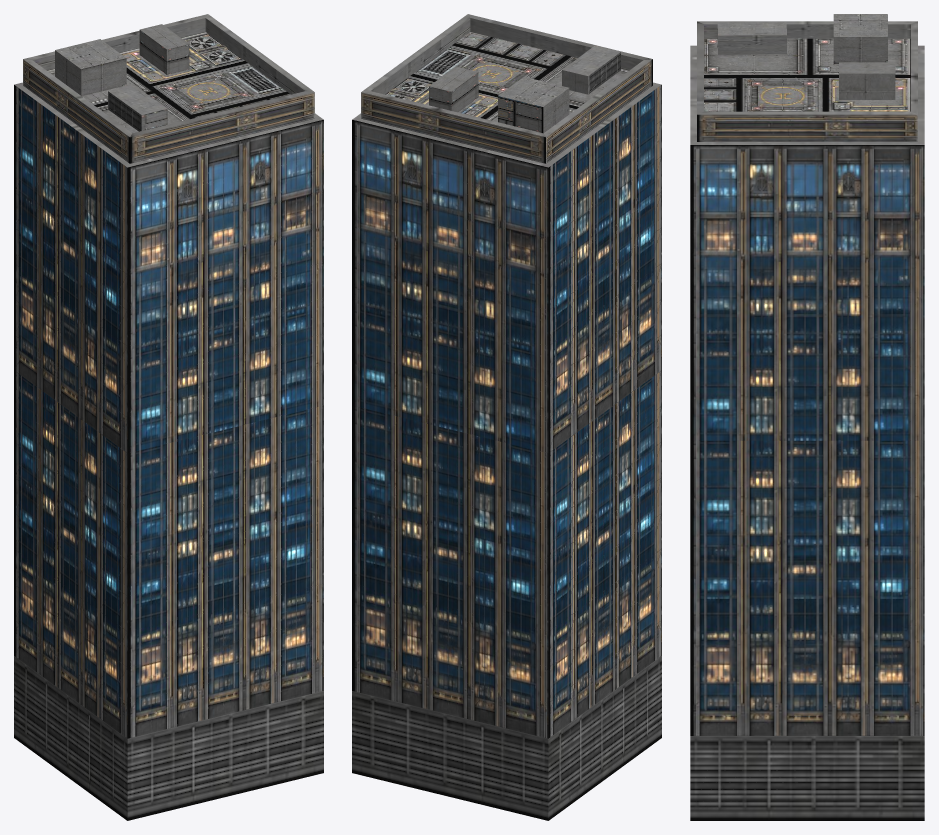
The model's file is 2026-commercial-building-12.glb.
3 renders of one model, left to right at view 1: azimuth 30°, elevation 25°; view 2: azimuth 150°, elevation 25°; view 3: azimuth 270°, elevation 25°, orthographic. The views are drawn at different scales.
Parts seen in each view (by area): view 1: 2026-commercial-building-12; view 2: 2026-commercial-building-12; view 3: 2026-commercial-building-12.
Part boxes in pixels (left/top/right/bottom): 2026-commercial-building-12: left=14, top=14, right=323, bottom=820; 2026-commercial-building-12: left=352, top=14, right=661, bottom=820; 2026-commercial-building-12: left=690, top=14, right=924, bottom=820.
Size of the model in its own units: 42.34 by 143 by 42.34.
Materials: 1 (1 with a texture image).
